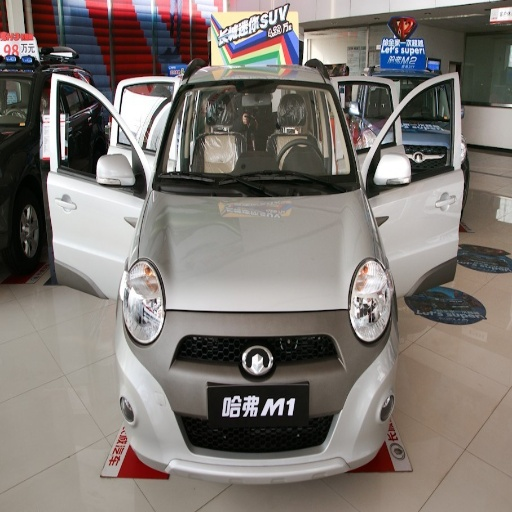front_bumper: (122, 310, 388, 479)
front_left_light: (351, 259, 392, 342)
front_right_light: (121, 261, 165, 344)
hood: (152, 192, 372, 309)
left_mirror: (369, 147, 411, 192)
